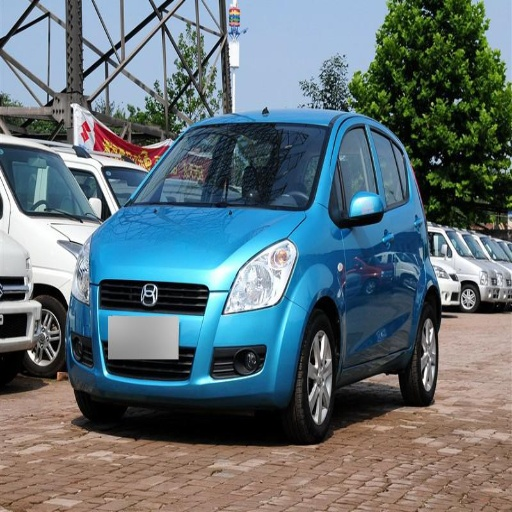front_bumper: (67, 280, 304, 412)
front_glass: (130, 129, 330, 210)
front_left_door: (336, 120, 391, 365)
